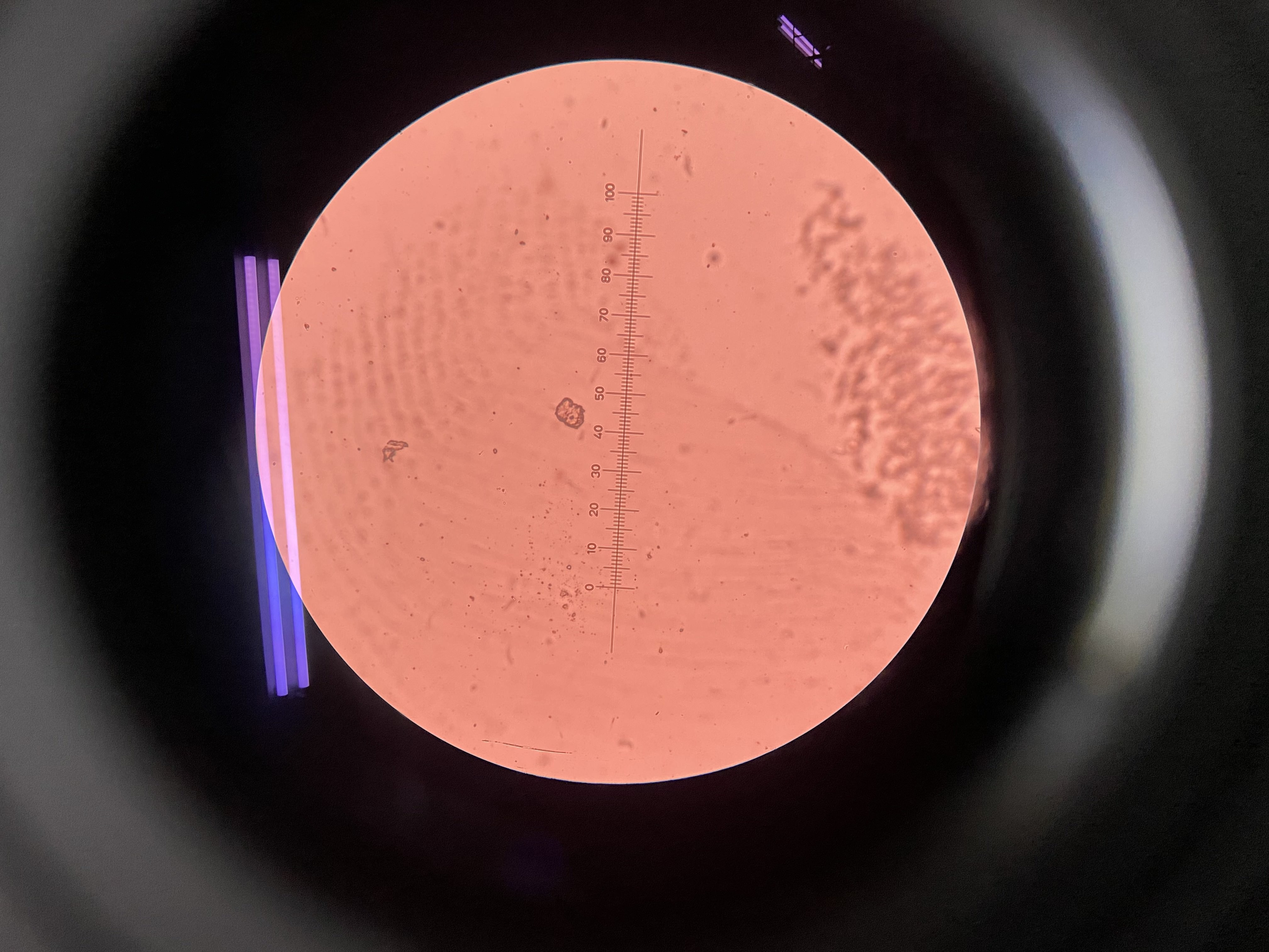microplastic: (788, 172, 996, 541), (554, 395, 588, 428), (377, 438, 415, 463), (709, 249, 721, 266)
